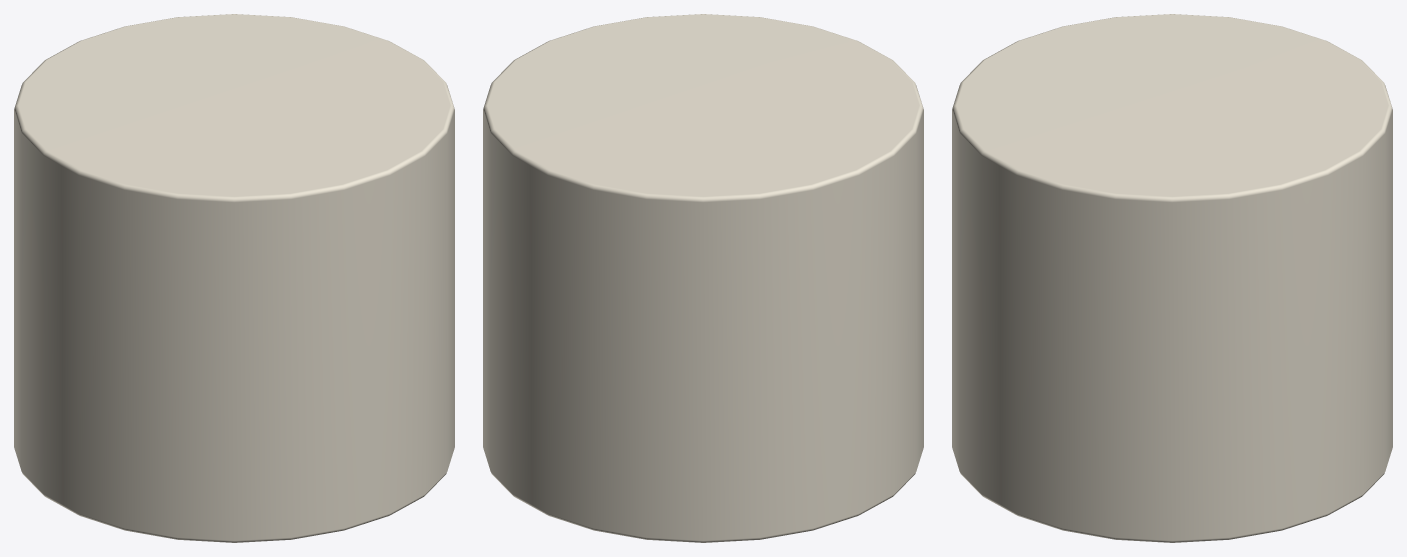
The model's file is ikea_korsbarsbjork_pot_00591724.glb.
3 renders of one model, left to right at view 1: azimuth 30°, elevation 25°; view 2: azimuth 150°, elevation 25°; view 3: azimuth 270°, elevation 25°, orthographic.
Parts seen in each view (by area): view 1: pot.002; view 2: pot.002; view 3: pot.002.
Boxes of the visible parts, left/top/right/bottom form: pot.002: left=14, top=14, right=454, bottom=542; pot.002: left=483, top=14, right=923, bottom=542; pot.002: left=952, top=14, right=1392, bottom=542.
Size of the model in its own units: 0.3 by 0.26 by 0.3.
